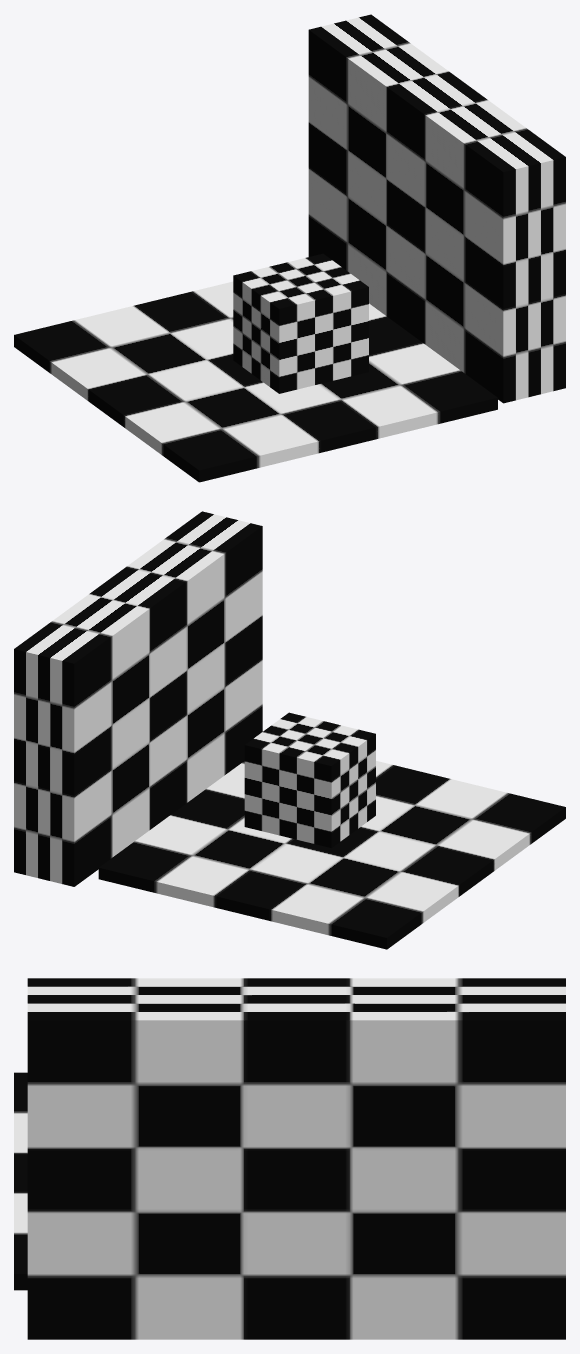
3 views of the same model, one above another, from view 1: azimuth 30°, elevation 25°; view 2: azimuth 150°, elevation 25°; view 3: azimuth 270°, elevation 25° (orthographic). The views are drawn at different scales.
Visible parts, largest first — view 1: Box003, Box001, Box002; view 2: Box003, Box001, Box002; view 3: Box003, Box001.
Boxes of the visible parts, bbox=[...] form: Box003: bbox=[308, 14, 565, 403]; Box001: bbox=[14, 281, 497, 482]; Box002: bbox=[233, 253, 368, 393]; Box003: bbox=[14, 511, 262, 886]; Box001: bbox=[98, 761, 565, 949]; Box002: bbox=[244, 712, 375, 847]; Box003: bbox=[27, 978, 565, 1339]; Box001: bbox=[14, 1072, 27, 1290].
Size of the model in its own units: 86.18 by 51.2 by 80.22.
3 materials, 3 textured.
